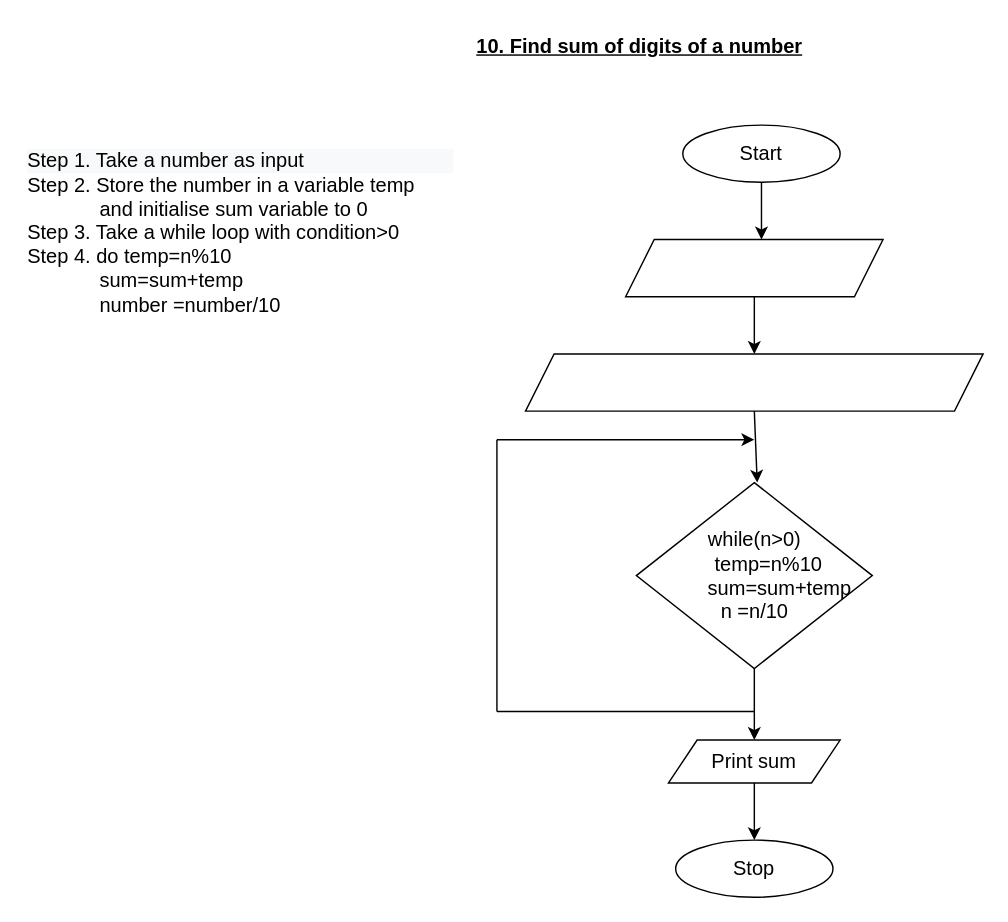
The diagram is 1008 pixels wide and 922 high, and some of its shapes have lost their labels. The shapes that lost their labels are listed below. From the top down, each one's centre as x and y in pixels, then its label:
the point at 753,267: Input a number n
the point at 753,381: Store the number in a variable temp and intitialise sum=0
